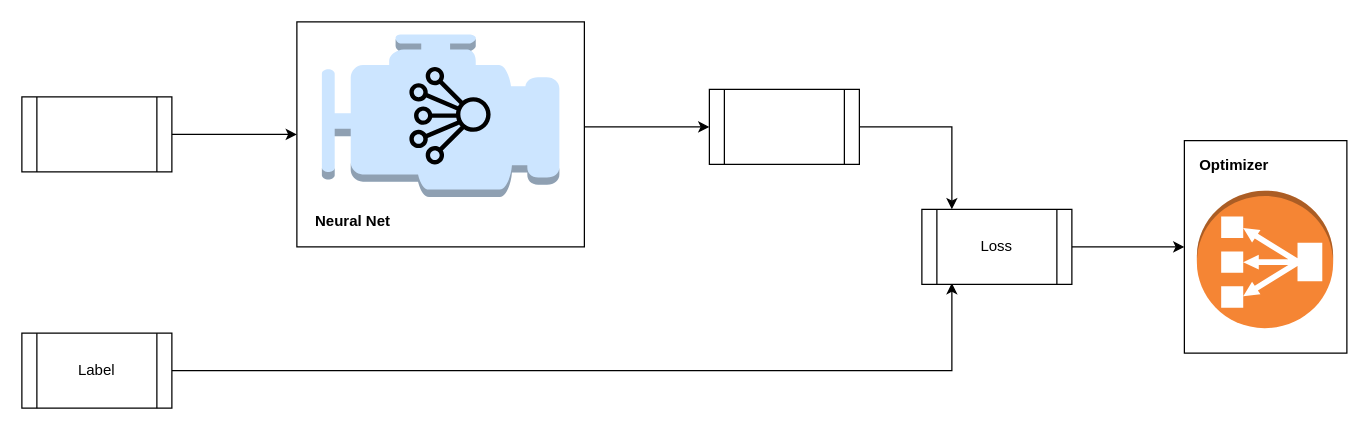
Image size: 1369x430. Some labels were removed from this diagram. The shapes that lost their labels are listed below. From the top down, each one's centre as x and y in pixels, then its label:
the point at 96,134: Data
the point at 783,126: Prediction
